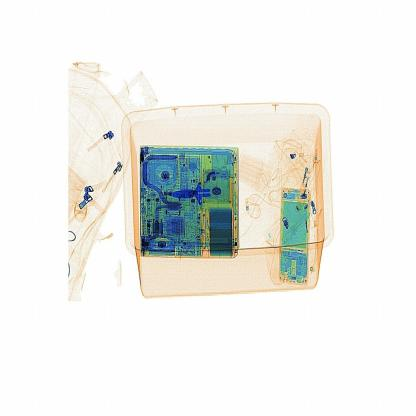gun: (167, 155, 233, 215)
